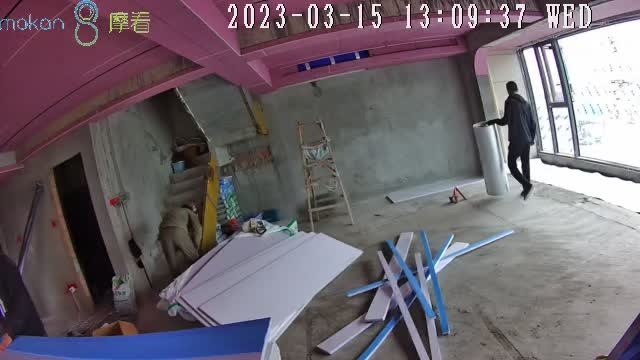people: (484, 81, 538, 203)
window: (520, 18, 640, 168)
